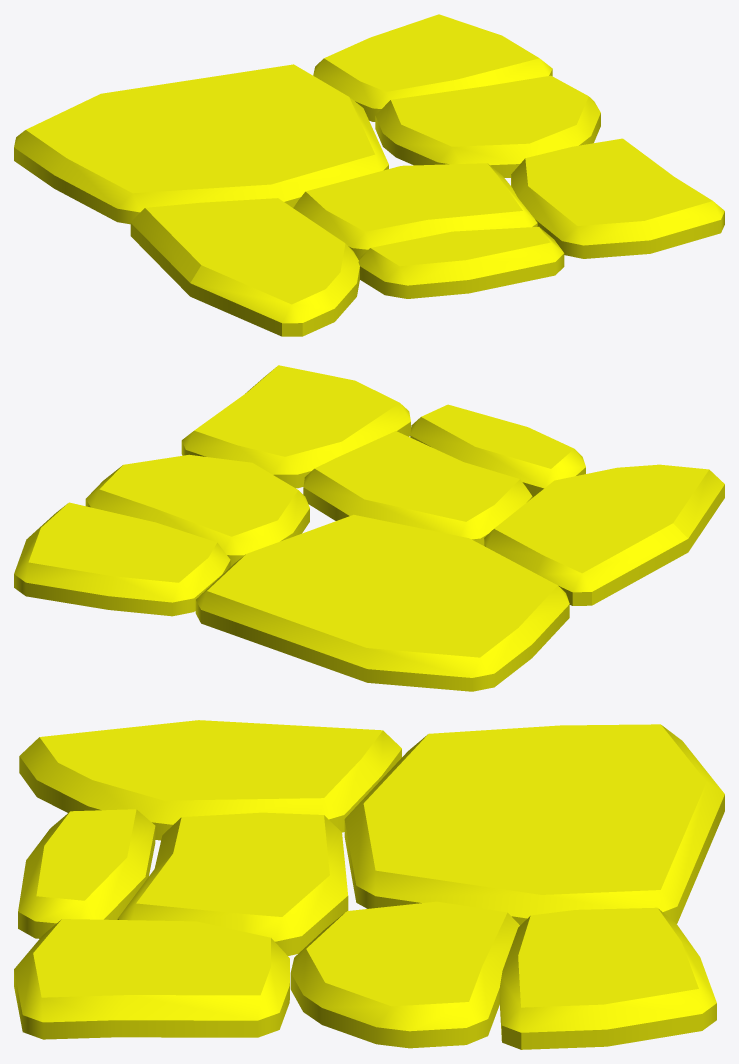
Rendered from kaykit-path-a.glb.
The picture shows the model from 3 angles, top to bottom: view 1: azimuth 30°, elevation 25°; view 2: azimuth 150°, elevation 25°; view 3: azimuth 270°, elevation 25°; orthographic projection. The views are drawn at different scales.
Parts seen in each view (by area): view 1: path_A; view 2: path_A; view 3: path_A.
Boxes of the visible parts, left/top/right/bottom form: path_A: left=14, top=14, right=724, bottom=336; path_A: left=14, top=365, right=724, bottom=691; path_A: left=14, top=720, right=724, bottom=1049.
Size of the model in its own units: 1.9 by 0.0999 by 1.88.
